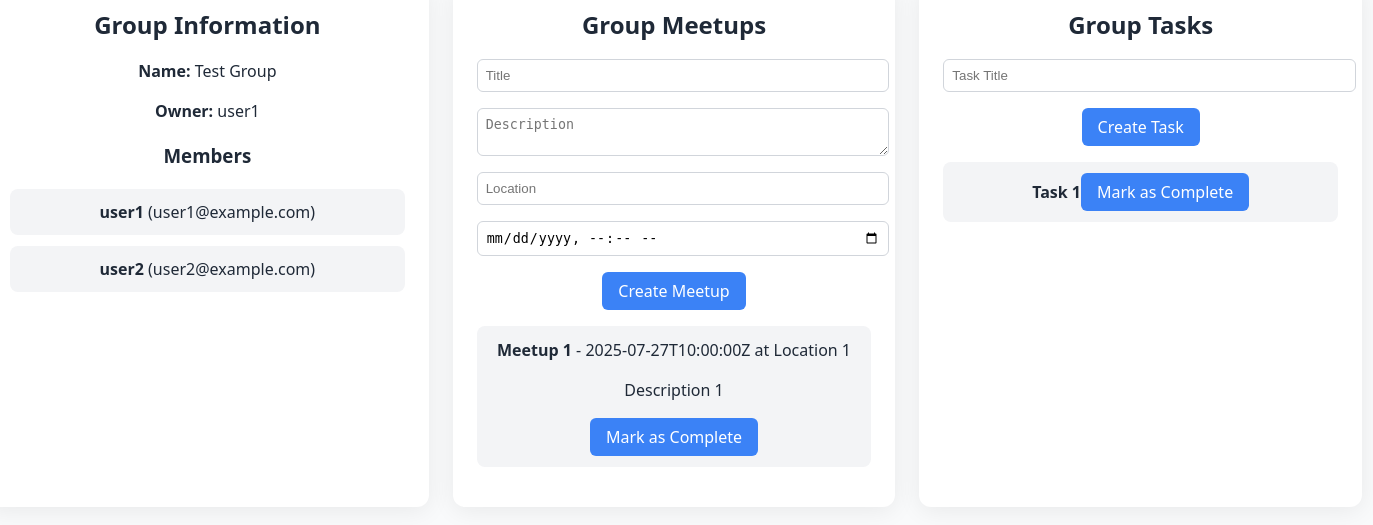
Test: GroupView Component › marks meetup as complete
The image size is (1373, 525).
expect the text "Meetup 1" is shown: met, box [497,338,572,360]
Find all 'Mark as Complete' buttons and click the first one (for meetup)
Click the button "Mark as Complete" below "Meetup 1": (674, 436) [590,418,758,456]
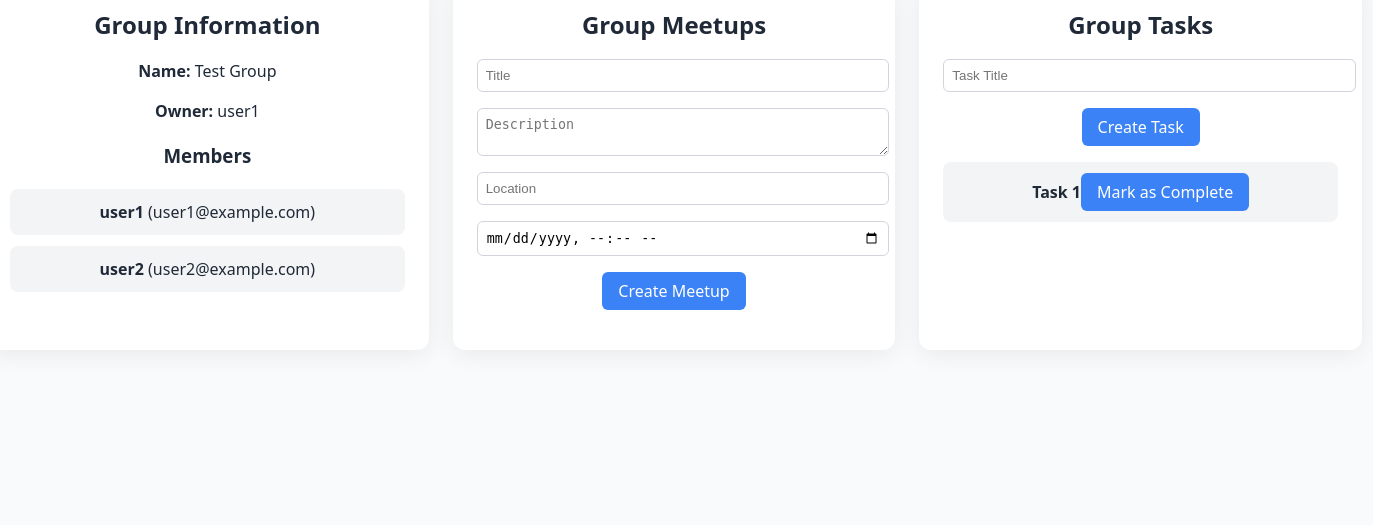
expect the text "Meetup 1" is gone: met
